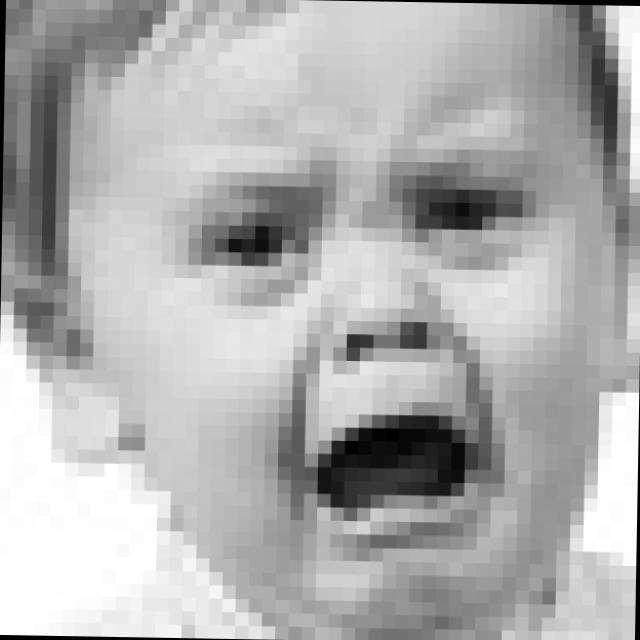sad: (166, 119, 578, 608)
